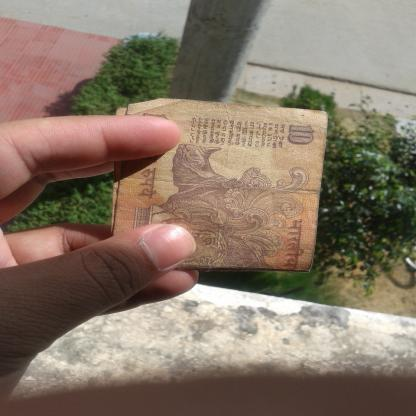Old10Back: (110, 96, 331, 274)
